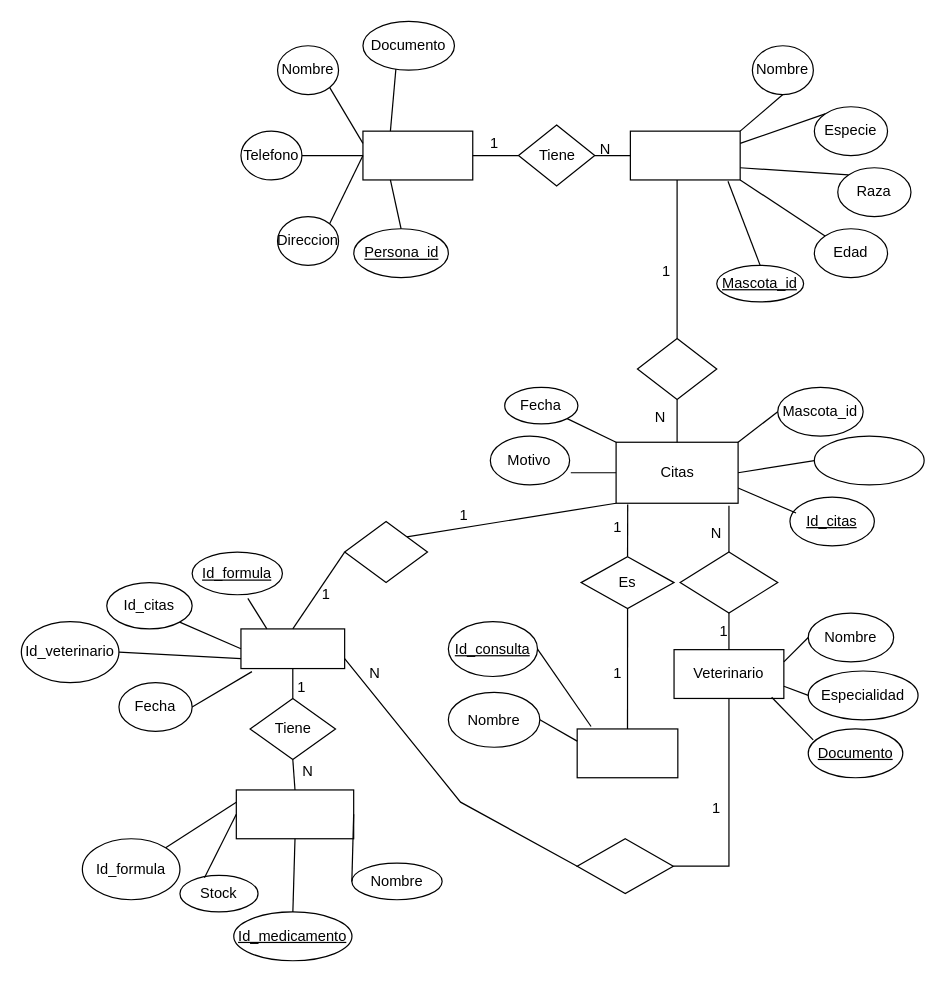
Some shapes in this 946 by 982 pixel diagram are drawn without their labels. The box of each missing label's shape, as (x1, y1, x2, y2) in pixels:
Asiste: (636, 337, 717, 400)
Atiende: (679, 551, 778, 613)
Escribe: (576, 838, 673, 894)
Formula: (240, 628, 345, 669)
Genera: (343, 520, 427, 583)
Mascotas: (629, 130, 740, 180)
Medicamentos: (235, 789, 354, 839)
Persona: (362, 130, 473, 180)
Tipo_Consulta: (576, 728, 678, 778)
Veterinario_id: (813, 435, 924, 485)
